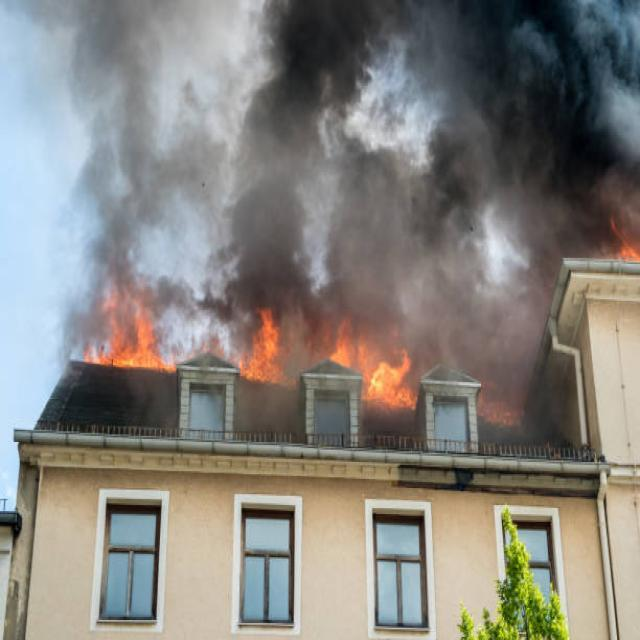Fire: (320, 310, 420, 410), (78, 283, 179, 379), (237, 302, 300, 392), (584, 222, 640, 261)
Smoke: (325, 0, 640, 353), (208, 0, 380, 370), (65, 0, 200, 344)
